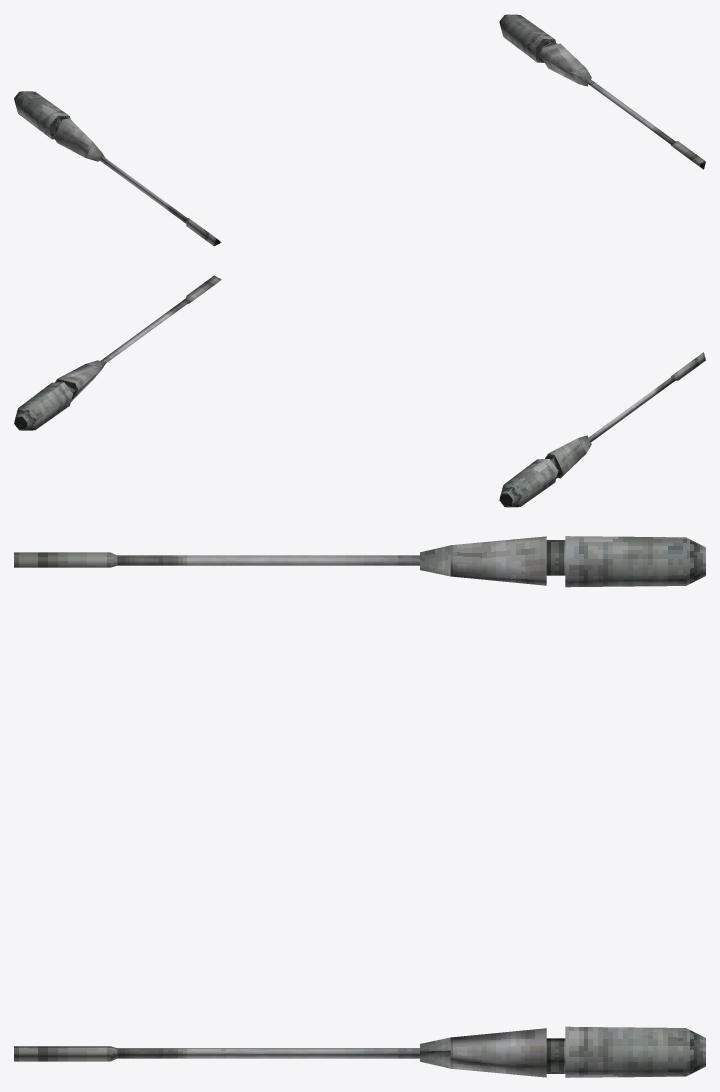
The model's file is xwing_weapon1_pos_s05_l2.fbx.
3 renders of one model, top to bottom at view 1: azimuth 30°, elevation 25°; view 2: azimuth 150°, elevation 25°; view 3: azimuth 270°, elevation 25°, orthographic. The views are drawn at different scales.
Parts seen in each view (by area): view 1: mesh_node; view 2: mesh_node; view 3: mesh_node.
Part boxes in pixels (x1=…): mesh_node: x1=14, y1=14, x2=705, y2=246; mesh_node: x1=14, y1=275, x2=705, y2=507; mesh_node: x1=14, y1=536, x2=705, y2=1077.
Bounding box in the file's own units: 13.08 × 1.65 × 8.72.
Materials: 1 (1 with a texture image).
